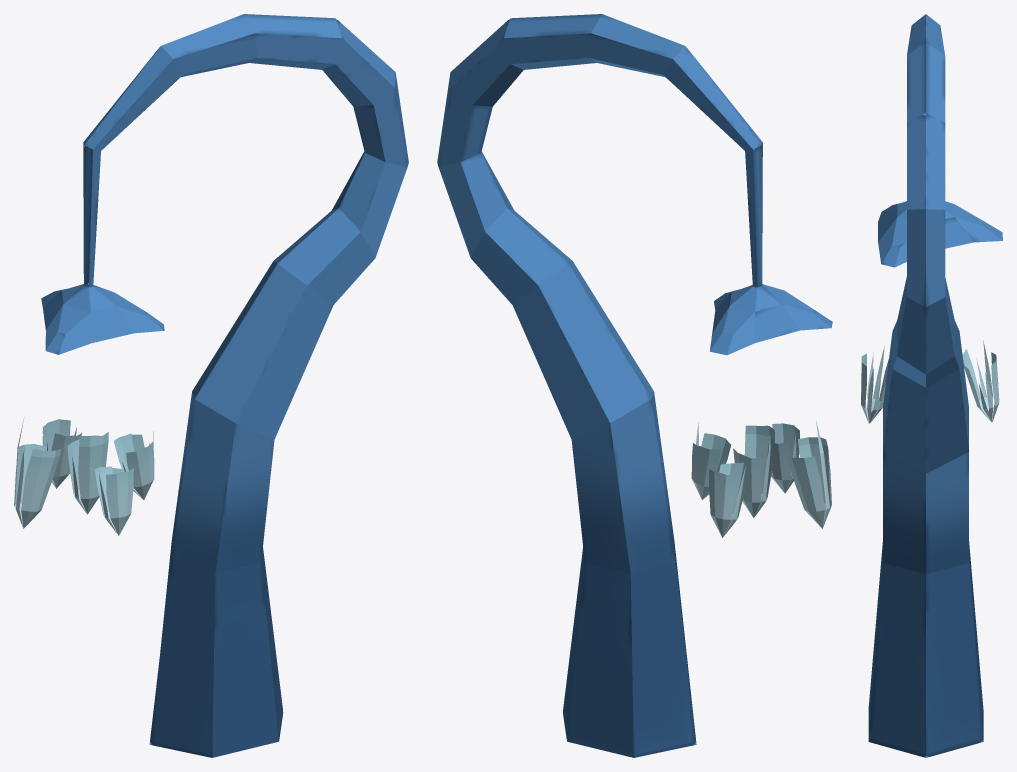
File: frostPod.fbx
3 views of the same model, side by side, from view 1: azimuth 30°, elevation 25°; view 2: azimuth 150°, elevation 25°; view 3: azimuth 270°, elevation 25° (orthographic).
Parts seen in each view (by area): view 1: cylinder; view 2: cylinder; view 3: cylinder.
Part boxes in pixels (x1=…): cylinder: x1=14, y1=14, x2=408, y2=757; cylinder: x1=437, y1=14, x2=832, y2=757; cylinder: x1=861, y1=14, x2=1002, y2=757.
Bounding box in the file's own units: 58.38 × 100 × 18.52.
1 material, 1 textured.
